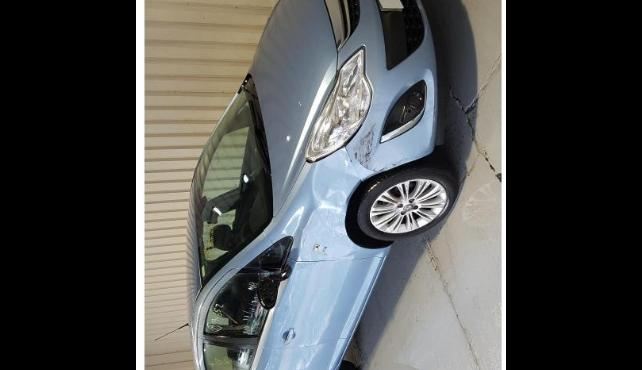Broken part: (401, 104, 413, 125), (313, 243, 320, 250)
Dent: (313, 147, 355, 203), (304, 209, 352, 254)
Scratch: (353, 121, 404, 173), (321, 245, 329, 255)
